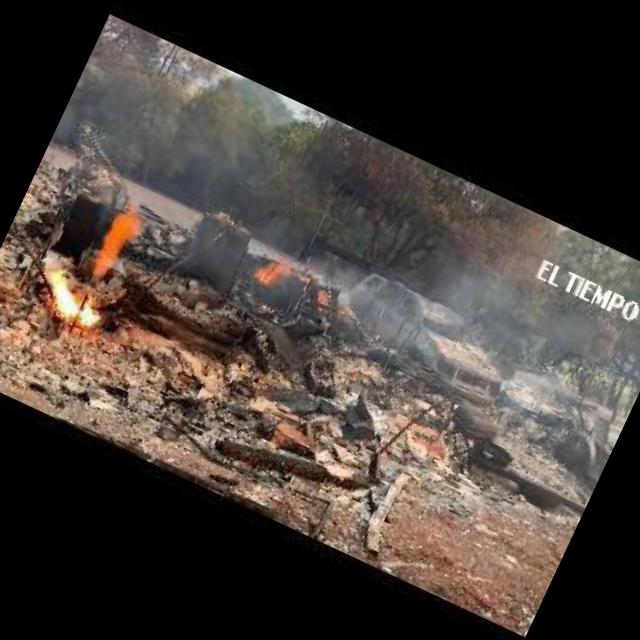fire: (38, 266, 113, 332), (86, 202, 142, 280), (254, 252, 289, 288)
